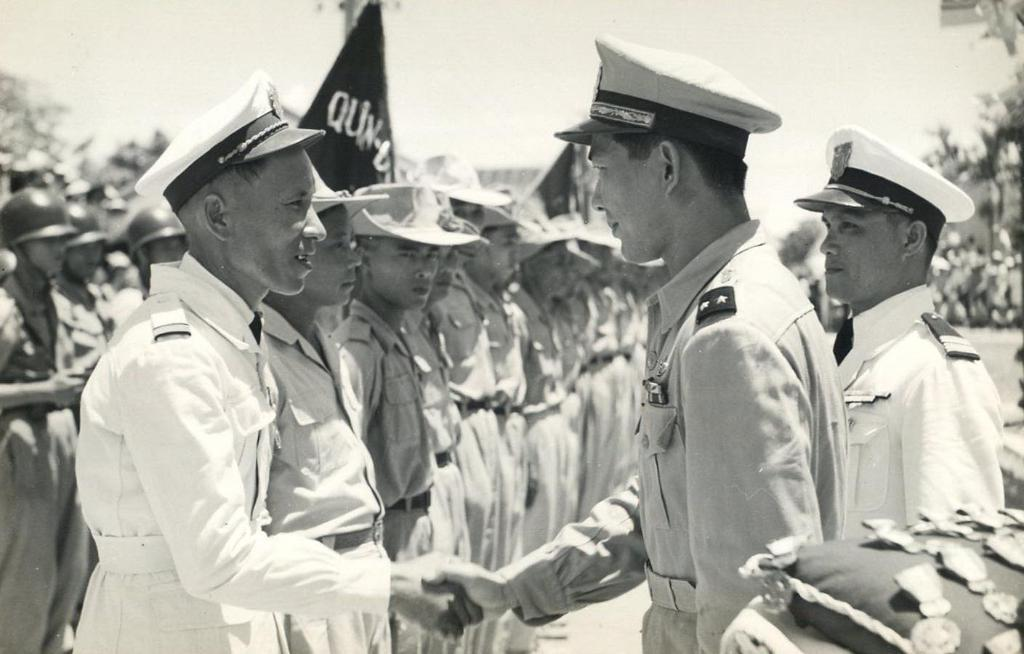Hat: (133, 70, 666, 262), (554, 31, 780, 147), (793, 124, 979, 216)
